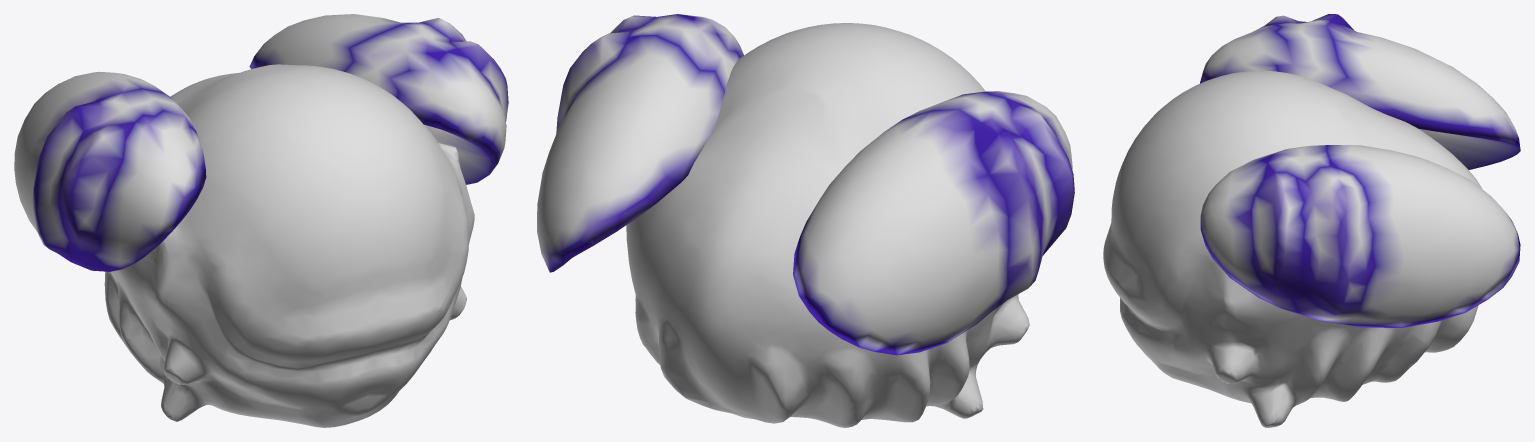
The model's file is bugship_1.fbx.
3 renders of one model, left to right at view 1: azimuth 30°, elevation 25°; view 2: azimuth 150°, elevation 25°; view 3: azimuth 270°, elevation 25°, orthographic. The views are drawn at different scales.
Visible parts, largest first — view 1: alien_ship_2_oPP_1; view 2: alien_ship_2_oPP_1; view 3: alien_ship_2_oPP_1.
Boxes of the visible parts, <box> form: alien_ship_2_oPP_1: <box>14,14,508,427</box>; alien_ship_2_oPP_1: <box>537,14,1074,427</box>; alien_ship_2_oPP_1: <box>1103,14,1520,427</box>.
Bounding box in the file's own units: 3.15 × 2.17 × 2.78.
